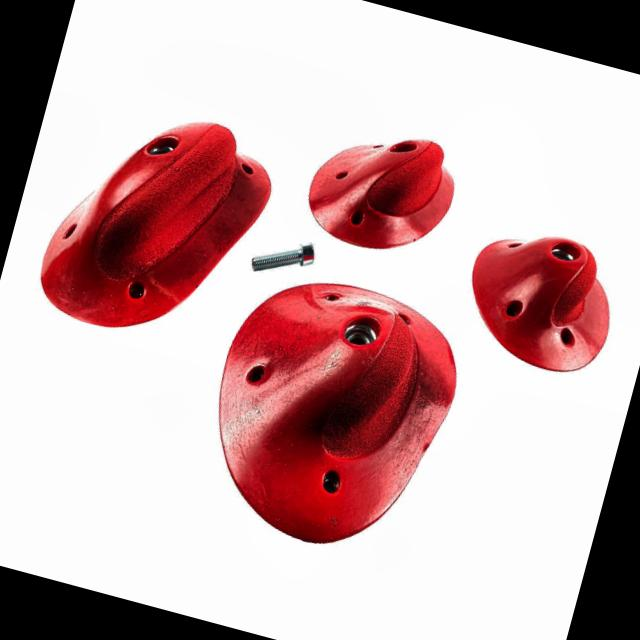Hold: (188, 260, 474, 571), (25, 88, 284, 364), (447, 213, 632, 386), (300, 116, 458, 263)
